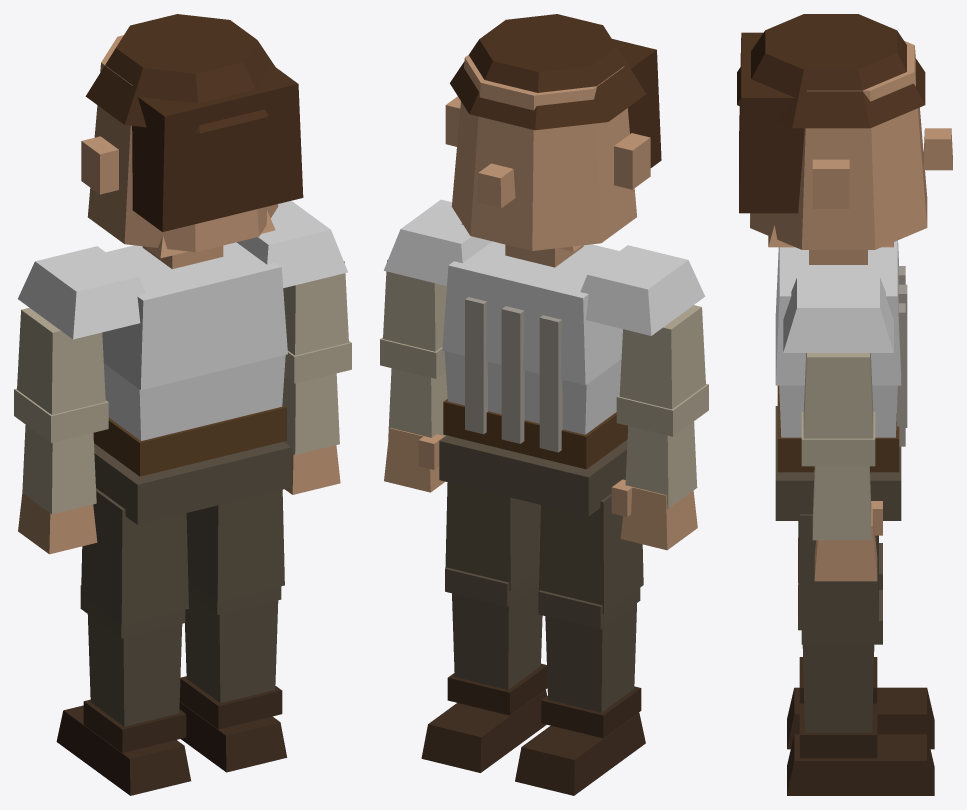
Rendered from villager.glb.
3 views of the same model, side by side, from view 1: azimuth 30°, elevation 25°; view 2: azimuth 150°, elevation 25°; view 3: azimuth 270°, elevation 25° (orthographic). The views are drawn at different scales.
Visible parts, largest first — view 1: villager; view 2: villager; view 3: villager.
Boxes of the visible parts, x1=… form: villager: x1=14, y1=14, x2=351, y2=795; villager: x1=380, y1=14, x2=708, y2=795; villager: x1=737, y1=14, x2=952, y2=795.
Size of the model in its own units: 0.47 by 1.07 by 0.2925.
